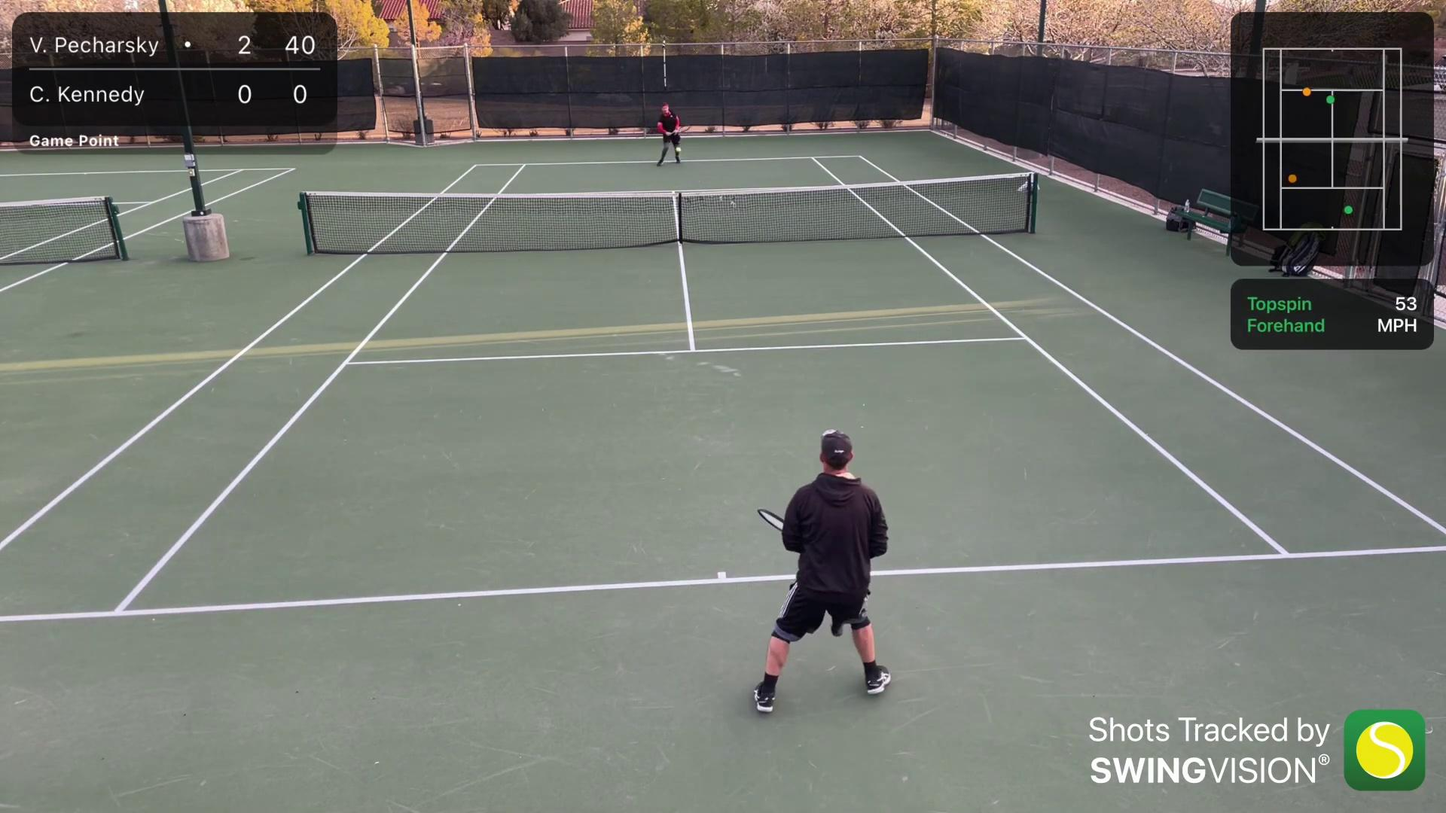ball: (674, 147, 683, 153)
